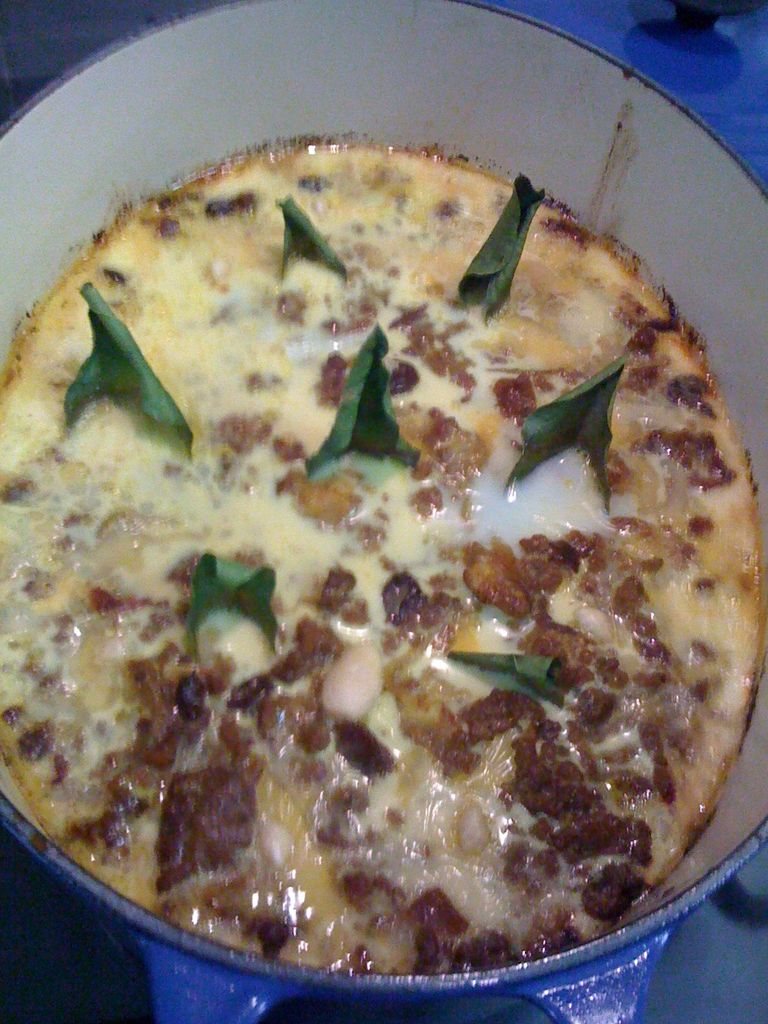Pizza: (26, 116, 757, 968)
